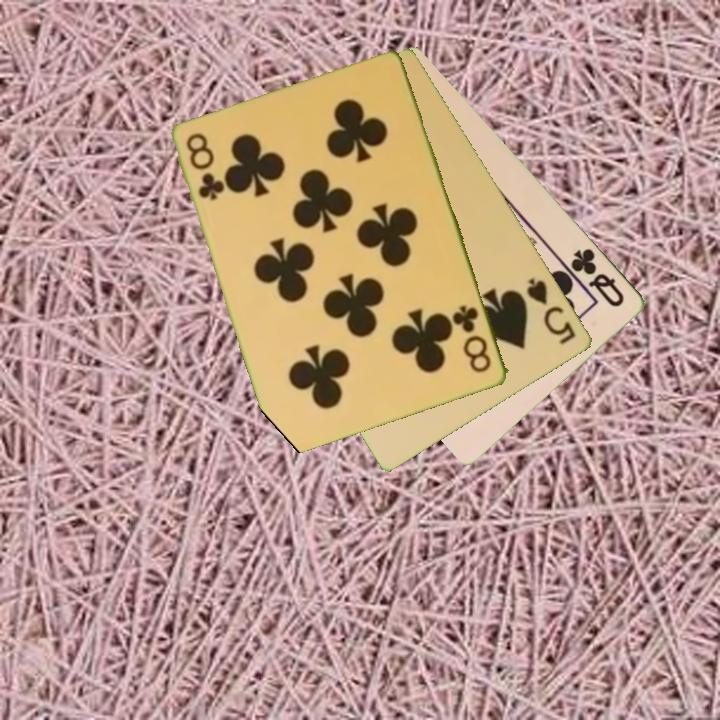5s: (523, 274, 579, 348)
8c: (449, 302, 495, 376), (183, 129, 226, 204)
Qc: (567, 244, 628, 311)
